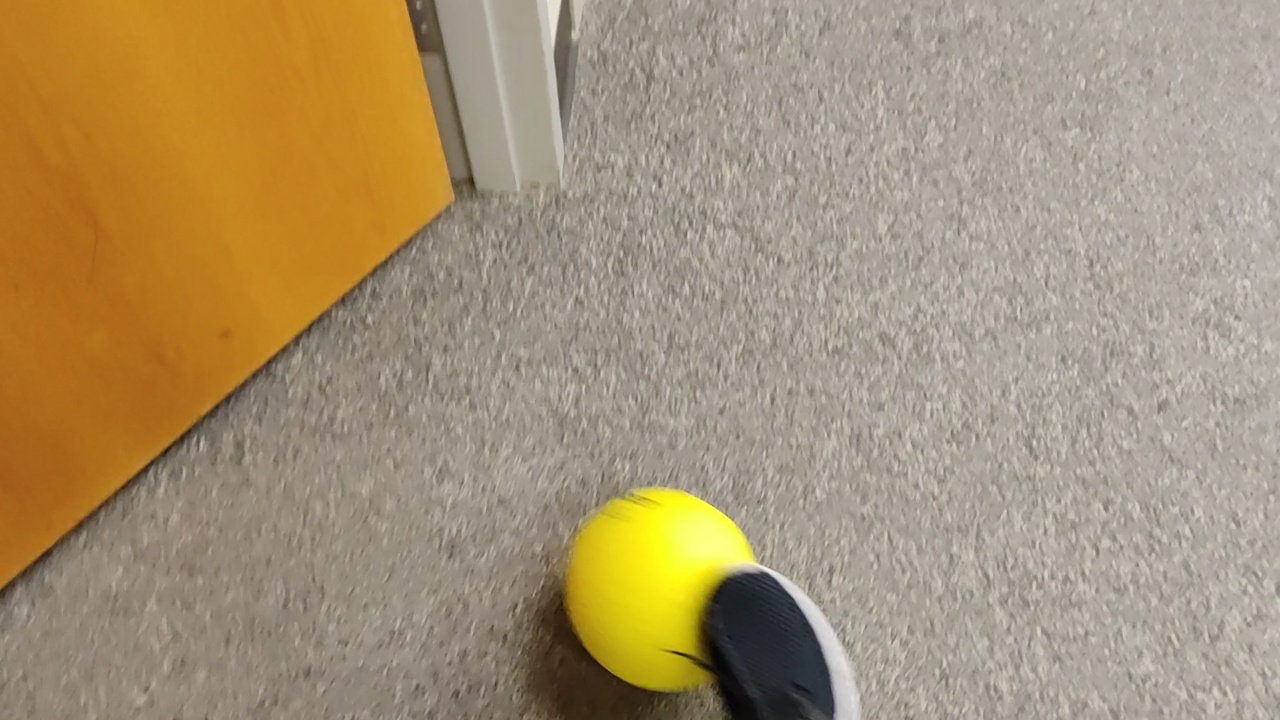Ball: (571, 489, 768, 688)
